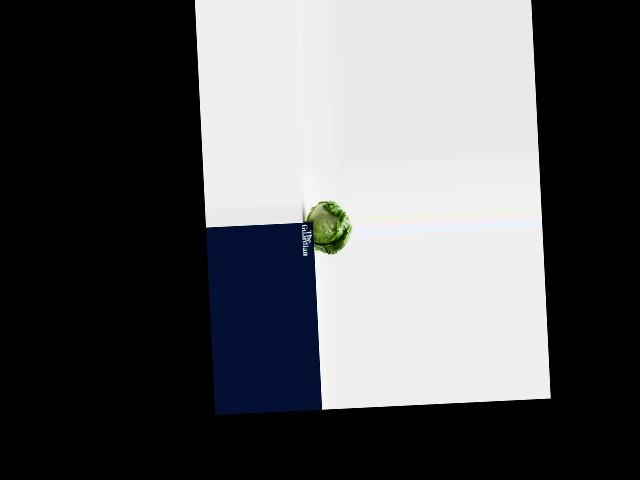lettuce: (305, 200, 355, 254)
